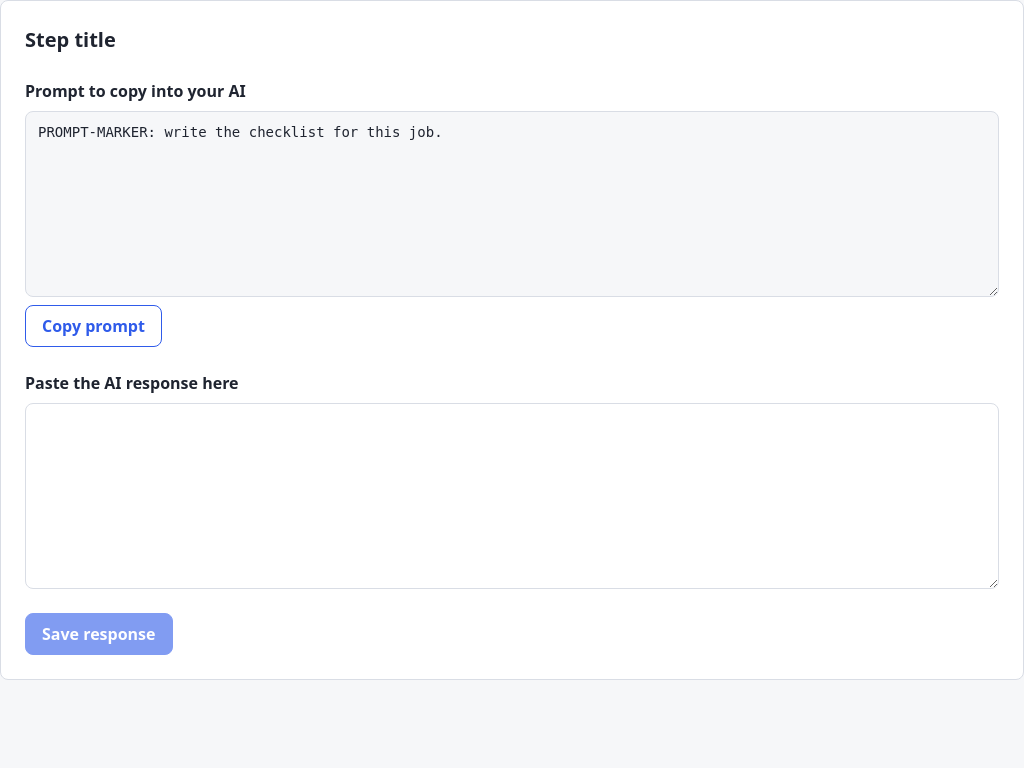
PromptStep › copy button › shows a status message after copying
Click the button "Copy prompt".
click(93, 326)  # box [25, 305, 162, 347]
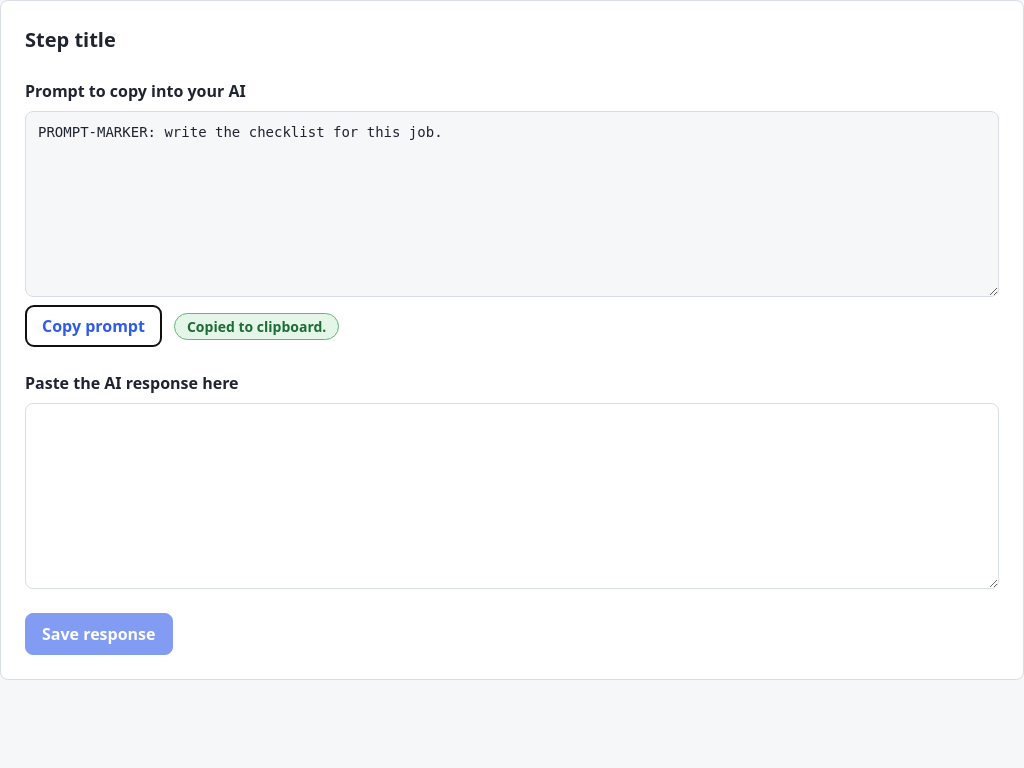
expect the text "Copied to clipboard." is shown: met, box [174, 312, 339, 340]
